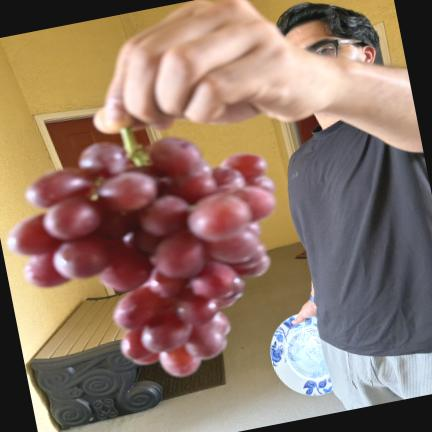grape_cluster: (8, 128, 276, 377)
